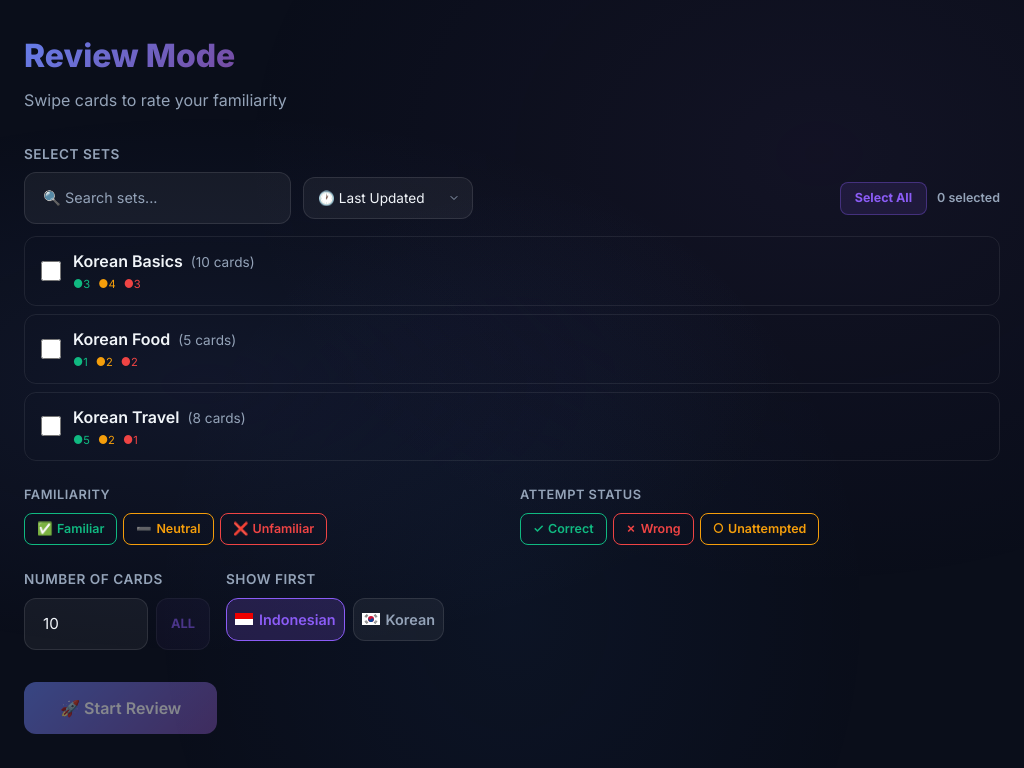
Scenario: ReviewMode › Setup screen › selected count updates correctly
This screenshot has width=1024, height=768.
Check: the text "Korean Basics" is shown, box [73,251,183,271]
Check: the text "0 selected" is shown, box [937,189,1000,208]
Click the checkbox labelled "Korean Basics(10 cards) ●3 ●4 ●3".
click(51, 271)  # box [41,261,61,281]
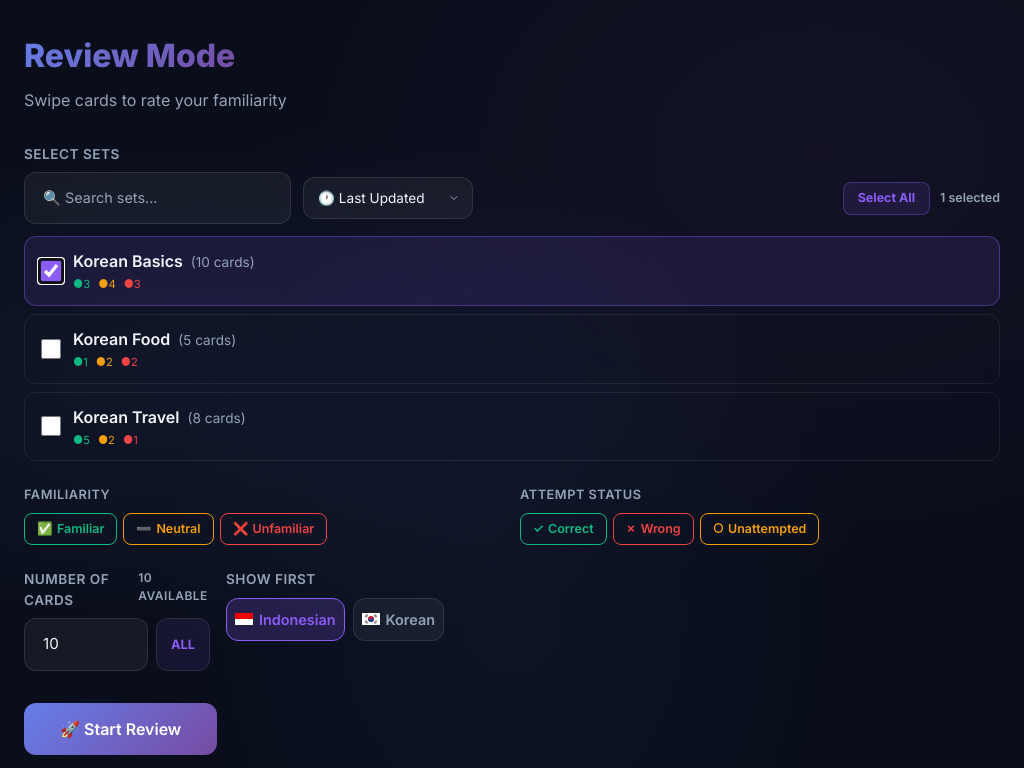
Check: the text "1 selected" is shown, box [940,189,1000,208]
Click the checkbox labelled "Korean Food(5 cards) ●1 ●2 ●2".
click(51, 349)  # box [41,339,61,359]
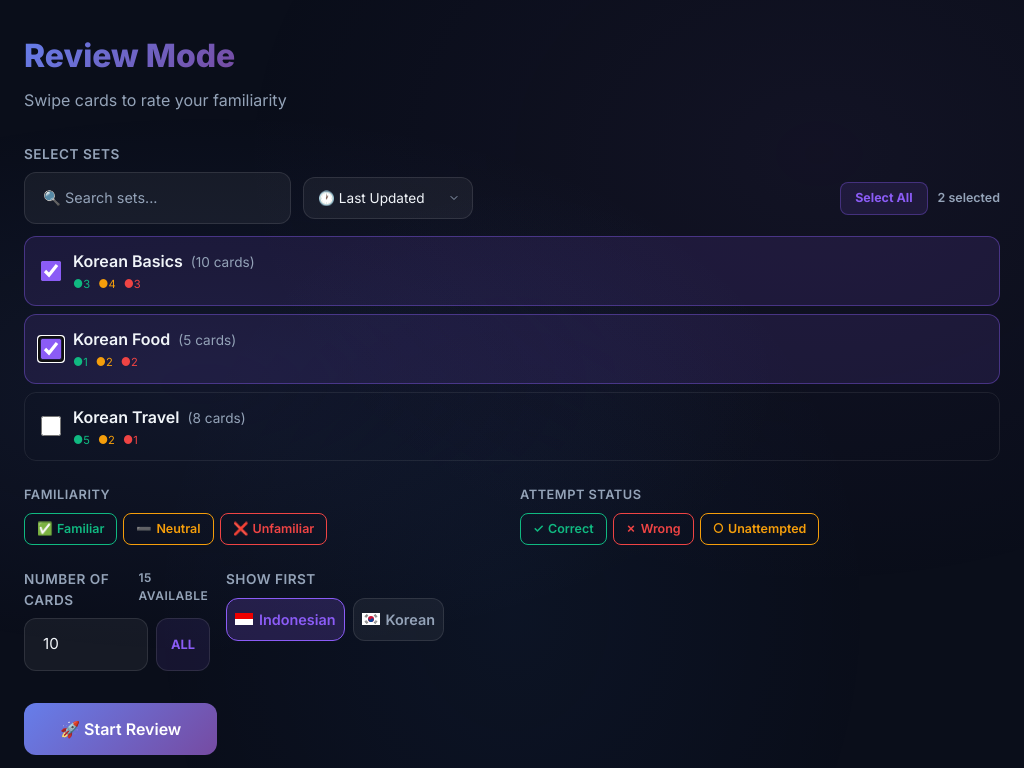
Check: the text "2 selected" is shown, box [938,189,1000,208]
